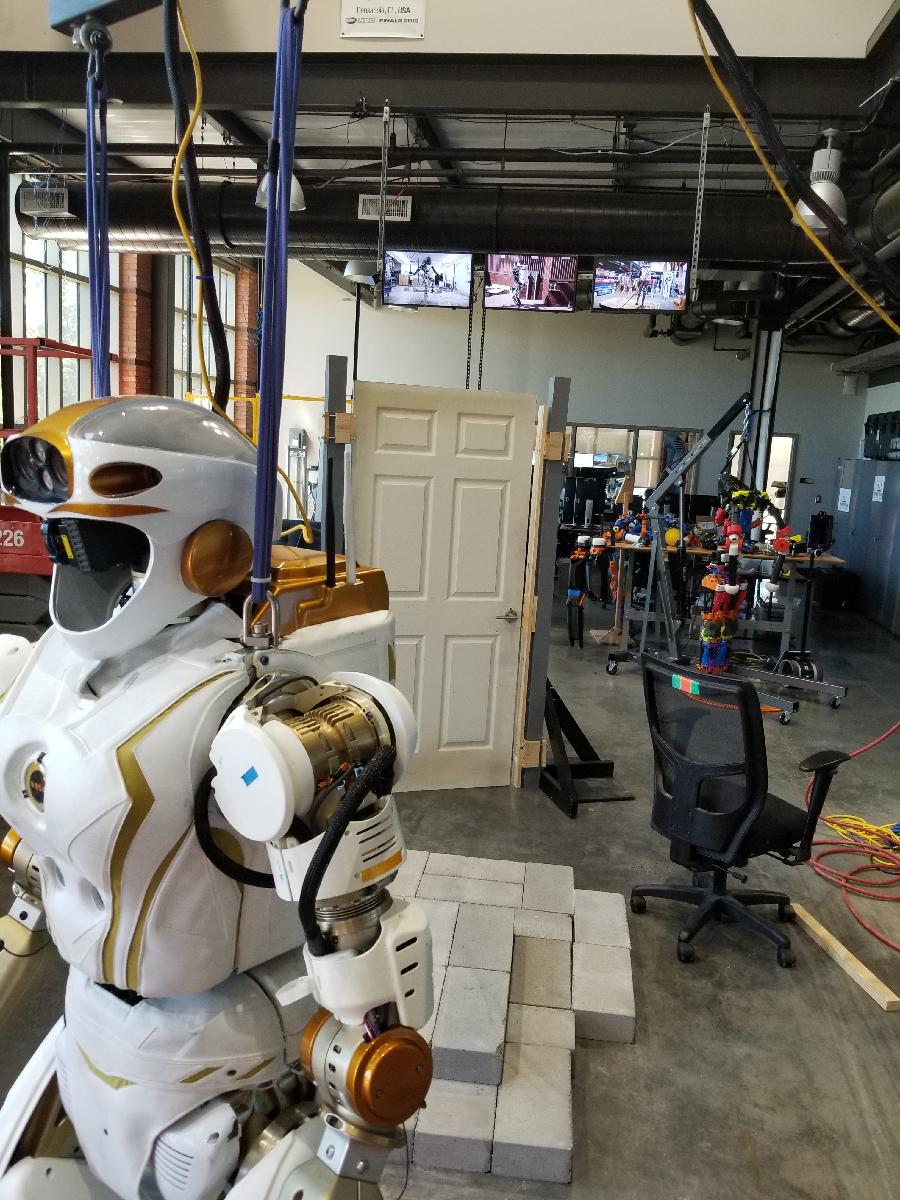door: (338, 377, 541, 802)
doorHandle: (489, 606, 529, 632)
